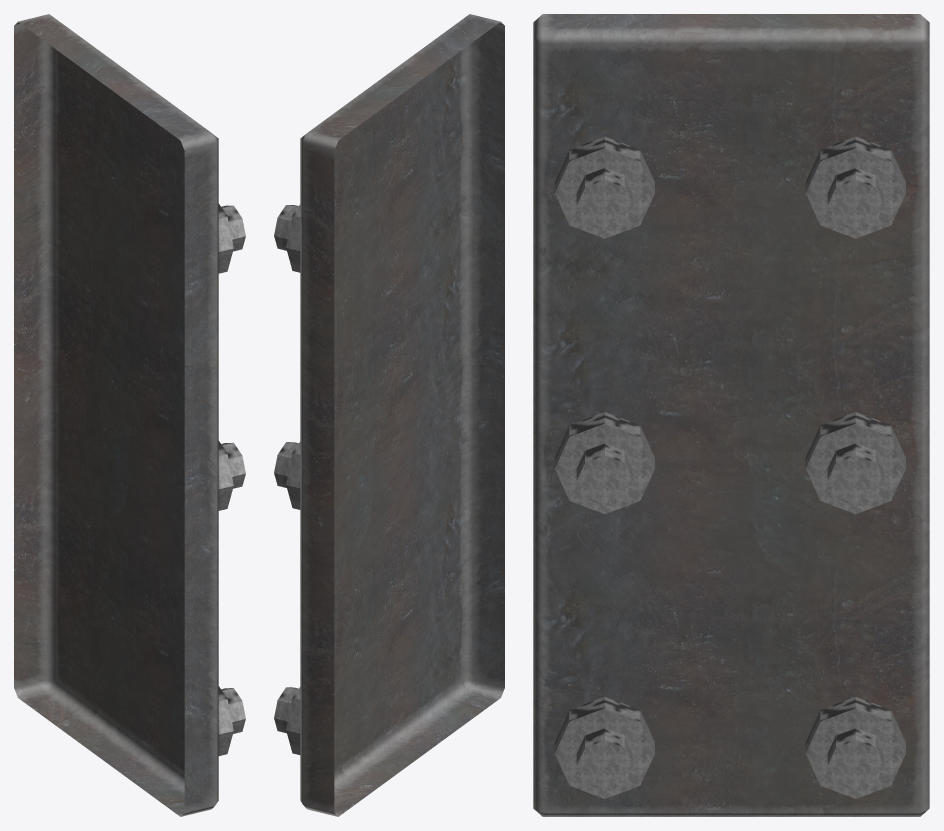
The model's file is Socket.fbx.
The picture shows the model from 3 angles, left to right: view 1: azimuth 30°, elevation 25°; view 2: azimuth 150°, elevation 25°; view 3: azimuth 270°, elevation 25°; orthographic projection. The views are drawn at different scales.
Visible parts, largest first — view 1: Socket; view 2: Socket; view 3: Socket.
Part boxes in pixels (bbox=[...]): Socket: bbox=[14, 14, 245, 816]; Socket: bbox=[274, 14, 504, 816]; Socket: bbox=[533, 14, 929, 816].
Bounding box in the file's own units: 8.26 × 66.69 × 30.48.
